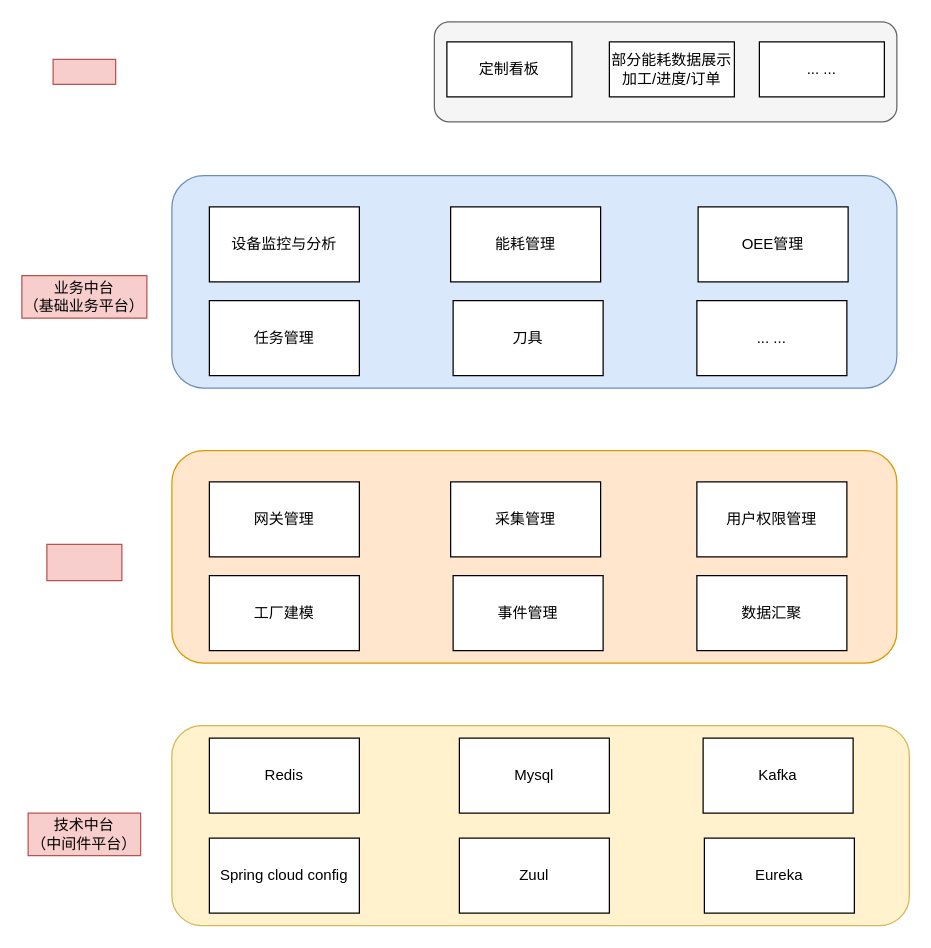
This 931x948 diagram has some shape labels left out. Here are the shapes that lost their labels. From the top down, the centre of each, then its label:
At [84,71]: "APP 层".
At [84,562]: "平台层".
